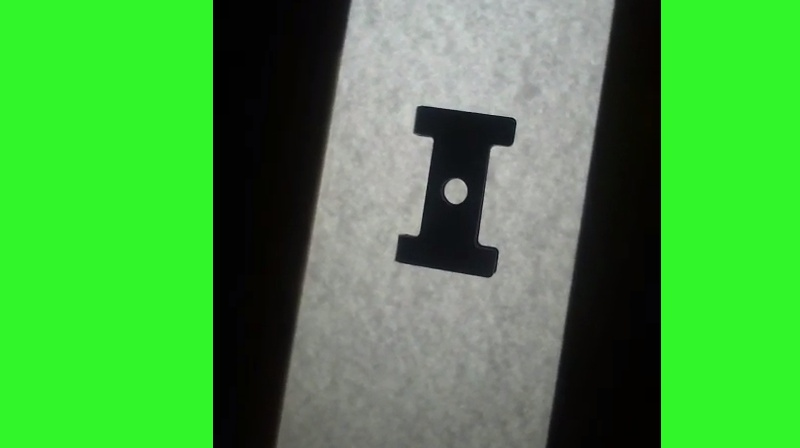O002: (391, 102, 516, 280)
